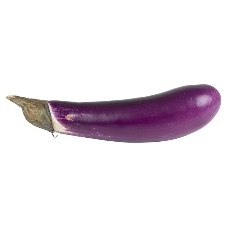eggplant: (24, 83, 222, 144)
